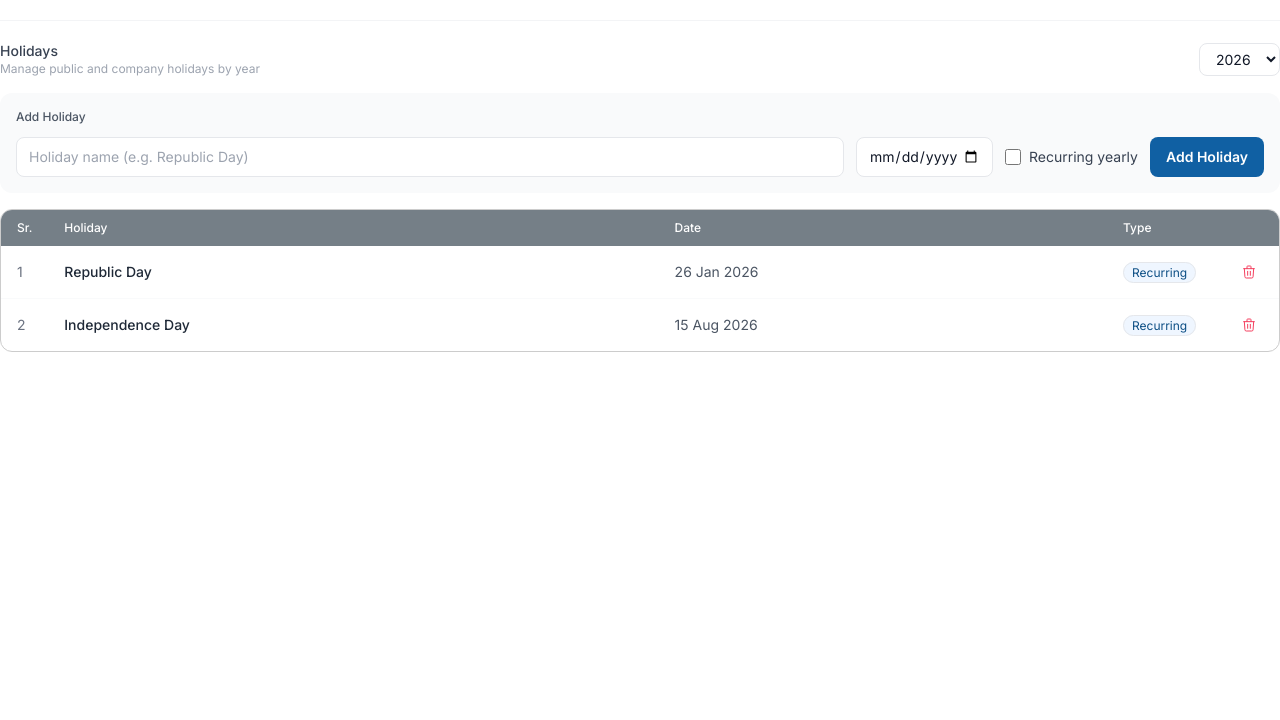
Test: HolidaySection › HolidaySection_DeleteButton_OpensConfirmModal
Expected: the text "Republic Day" is shown, 48,246 -> 659,298
Click the button titled "Delete holiday" in the row of "Republic Day".
click(1249, 272)  # box 1235,258 -> 1263,286
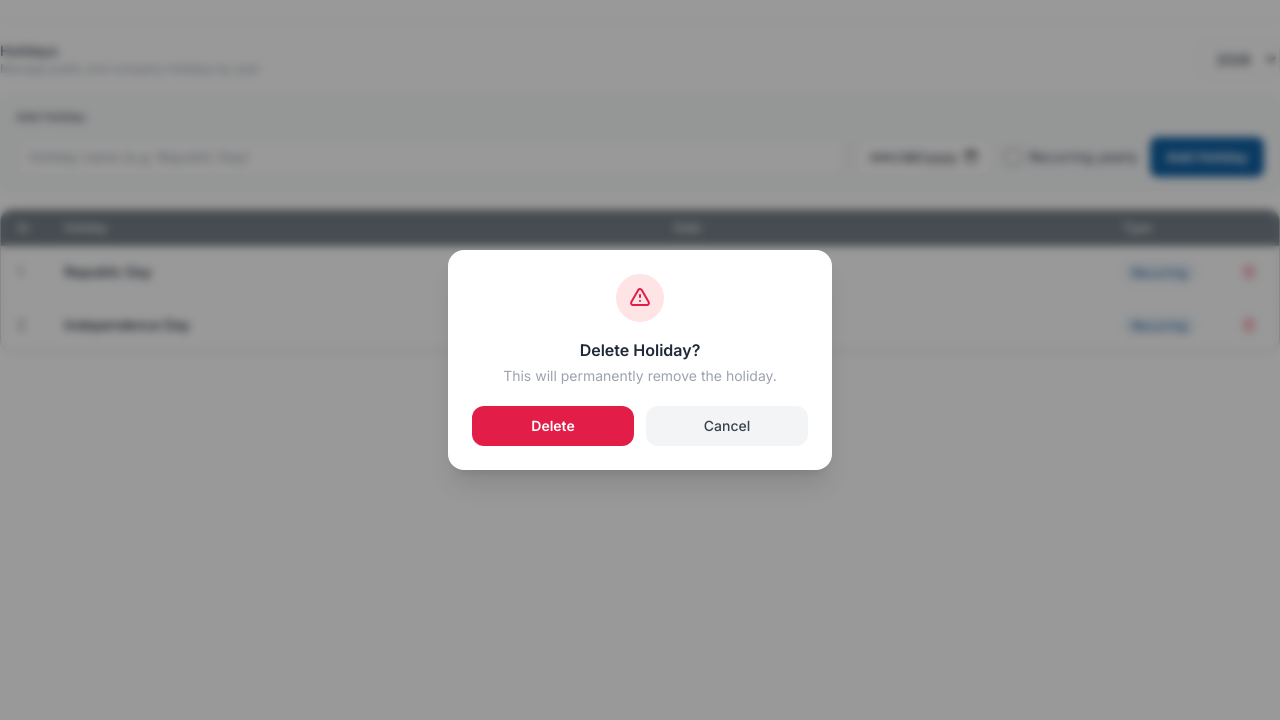
Result: the heading "Delete Holiday?" is shown at 580,340 -> 700,360
